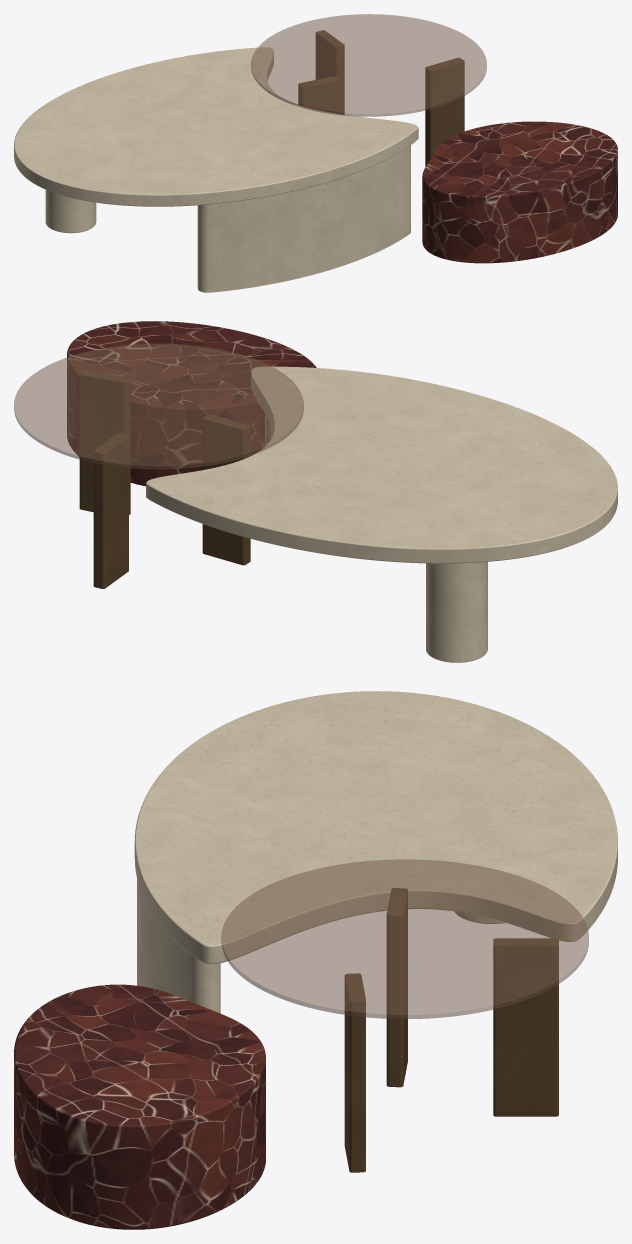
Rendered from O02_coffee_set.glb.
The picture shows the model from 3 angles, top to bottom: view 1: azimuth 30°, elevation 25°; view 2: azimuth 150°, elevation 25°; view 3: azimuth 270°, elevation 25°; orthographic projection. The views are drawn at different scales.
Parts seen in each view (by area): view 1: 01 Organic cream stone table - open underside curved panel a, 03 Low irregular burgundy stone pebble, 02 Thin smoke bronze glass table - three separated flat bron; view 2: 01 Organic cream stone table - open underside curved panel a, 02 Thin smoke bronze glass table - three separated flat bron, 03 Low irregular burgundy stone pebble; view 3: 01 Organic cream stone table - open underside curved panel a, 02 Thin smoke bronze glass table - three separated flat bron, 03 Low irregular burgundy stone pebble.
Part boxes in pixels (left/top/right/bottom): 01 Organic cream stone table - open underside curved panel a: left=14, top=47, right=418, bottom=292; 03 Low irregular burgundy stone pebble: left=422, top=121, right=617, bottom=263; 02 Thin smoke bronze glass table - three separated flat bron: left=251, top=14, right=486, bottom=166; 01 Organic cream stone table - open underside curved panel a: left=146, top=366, right=617, bottom=662; 02 Thin smoke bronze glass table - three separated flat bron: left=14, top=343, right=303, bottom=588; 03 Low irregular burgundy stone pebble: left=67, top=321, right=316, bottom=486; 01 Organic cream stone table - open underside curved panel a: left=134, top=691, right=617, bottom=1013; 02 Thin smoke bronze glass table - three separated flat bron: left=221, top=859, right=588, bottom=1172; 03 Low irregular burgundy stone pebble: left=14, top=984, right=265, bottom=1229.
Size of the model in its own units: 1.72 by 0.371 by 1.15.
4 materials, 3 textured.
